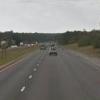Car: (46, 43, 62, 61)
